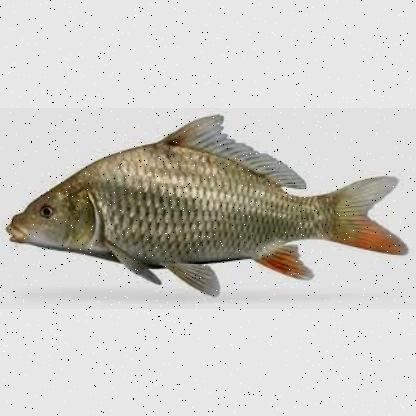ikan-mas: (6, 113, 406, 292)
